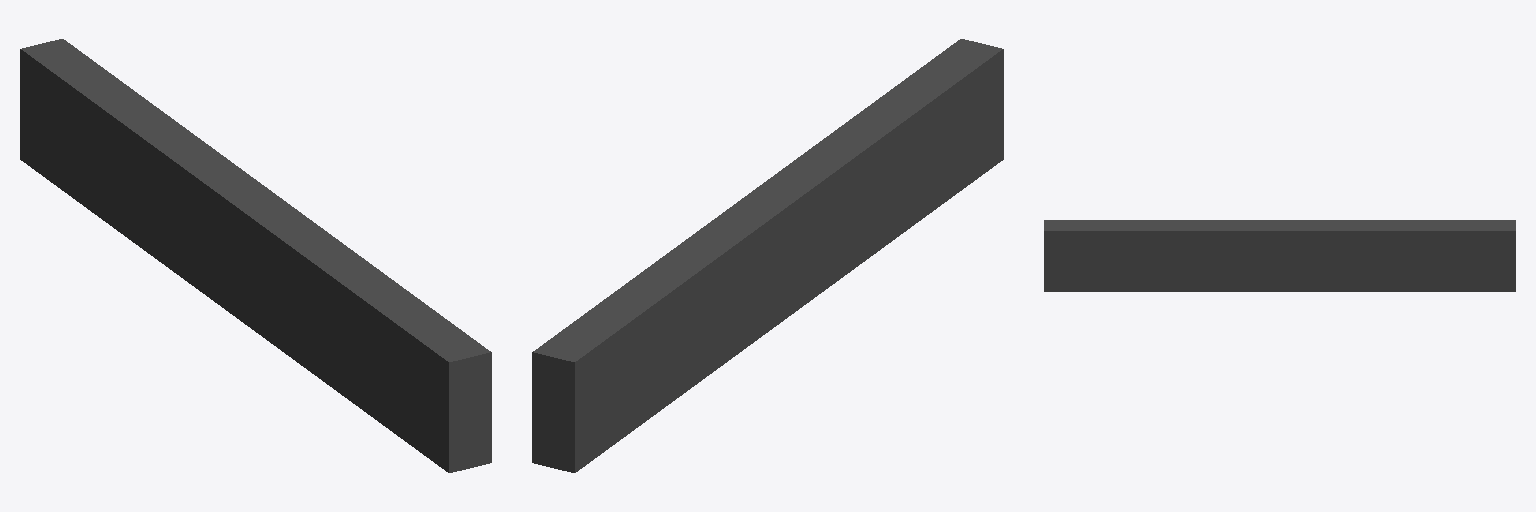
URDF robot description (slab):
<robot name="slab">
  <link name="slab">

    <inertial>
      <origin xyz="0 0 0" />
      <mass value="0.3" />
      <inertia  ixx="0.00003375" ixy="0.0"  ixz="0.0"  iyy="0.00003375"  iyz="0.0"  izz="0.00003375" />
    </inertial>

    <visual>
      <origin xyz="0 0 0"/>
      <geometry>
        <box size="0.02 0.35 0.05" />
      </geometry>
      <material name="white">
        <color rgba="0.36 0.36 0.36 1.0"/>
      </material>
    </visual>

    <collision>
      <origin xyz="0 0 0"/>
      <geometry>
        <box size="0.02 0.35 0.05" />
      </geometry>
    </collision>
  </link>
</robot>

--- What the picture shows (computed from the rendered views, not written in the file) ---
Views: 3 orthographic renders of the robot side by side, from view 1: azimuth 30°, elevation 25°; view 2: azimuth 150°, elevation 25°; view 3: azimuth 270°, elevation 25°.
Robot: slab — 1 links, 0 joints (none); root link slab; default pose: all joints at 0.
Visible links, largest first — view 1: slab; view 2: slab; view 3: slab.
Link boxes in pixels (x1,y1,x2,y2): slab: [20, 39, 491, 472]; slab: [532, 39, 1003, 472]; slab: [1044, 220, 1515, 291].
Bounding box of the posed robot: 0.02 × 0.35 × 0.05 m (x, y, z).
Geometry: primitives only (box / cylinder / sphere), no mesh files.